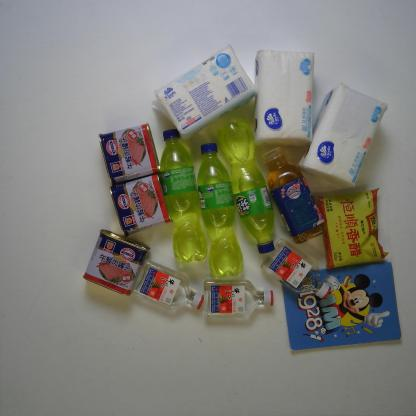Alcohol: (262, 236, 336, 302), (127, 258, 206, 318), (196, 276, 277, 321)
Canned Food: (82, 228, 150, 298), (108, 170, 175, 238), (99, 122, 167, 187)
Drink: (207, 117, 290, 253), (156, 127, 214, 275), (251, 146, 333, 246), (191, 140, 245, 279)
Seasoner: (314, 186, 389, 273)
Stationery: (281, 257, 402, 352)
Tissue: (296, 77, 390, 192), (155, 46, 256, 140), (251, 46, 320, 149)
